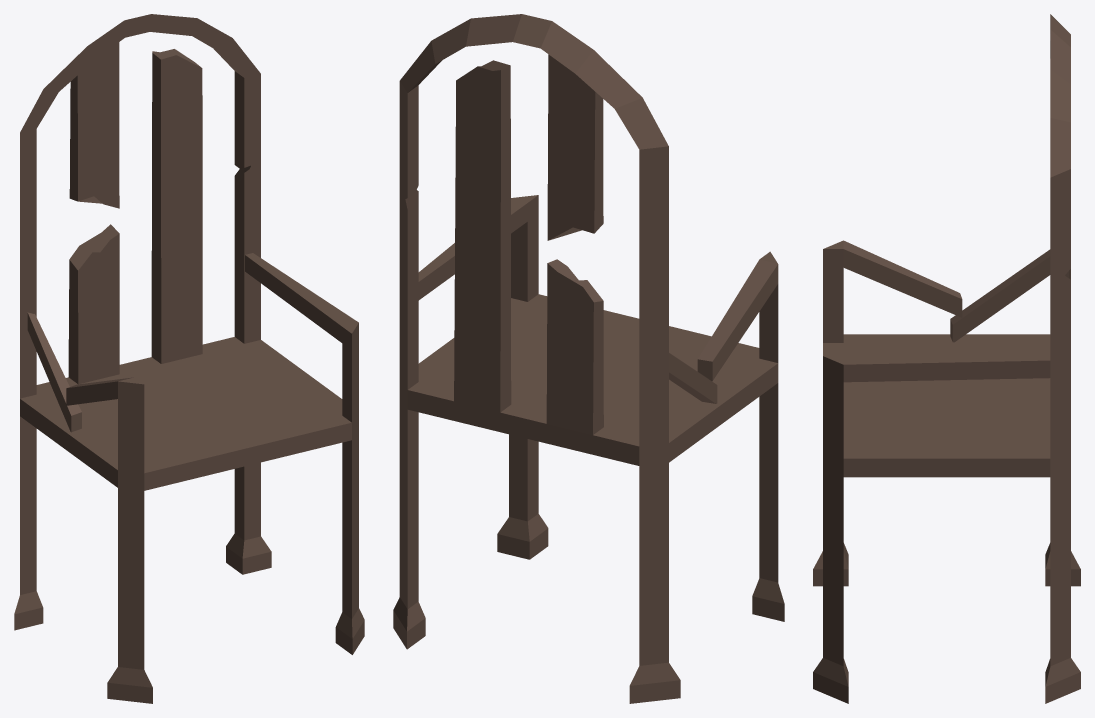
The model's file is Chair.fbx.
The picture shows the model from 3 angles, left to right: view 1: azimuth 30°, elevation 25°; view 2: azimuth 150°, elevation 25°; view 3: azimuth 270°, elevation 25°; orthographic projection. The views are drawn at different scales.
Parts seen in each view (by area): view 1: Chair; view 2: Chair; view 3: Chair.
Boxes of the visible parts, <box> form: Chair: <box>14,14,364,703</box>; Chair: <box>393,14,784,703</box>; Chair: <box>813,14,1080,703</box>.
Size of the model in its own units: 243 by 525 by 208.
